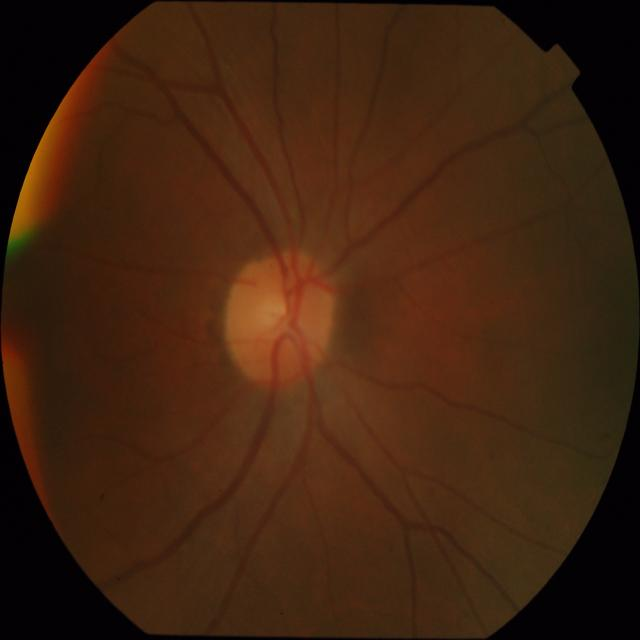OC: (256, 294, 302, 340)
OD: (224, 249, 337, 387)
